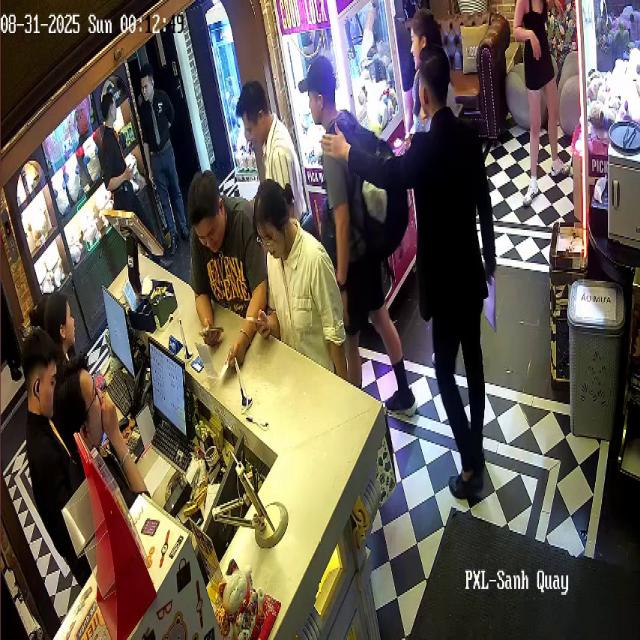khach: (297, 54, 412, 403), (246, 162, 346, 391), (180, 167, 270, 383), (511, 0, 571, 206), (239, 74, 300, 218), (410, 12, 450, 66)
nhan vien: (323, 41, 501, 488), (58, 348, 145, 523), (21, 321, 70, 565), (134, 59, 186, 274), (98, 84, 149, 262), (36, 277, 80, 379)
